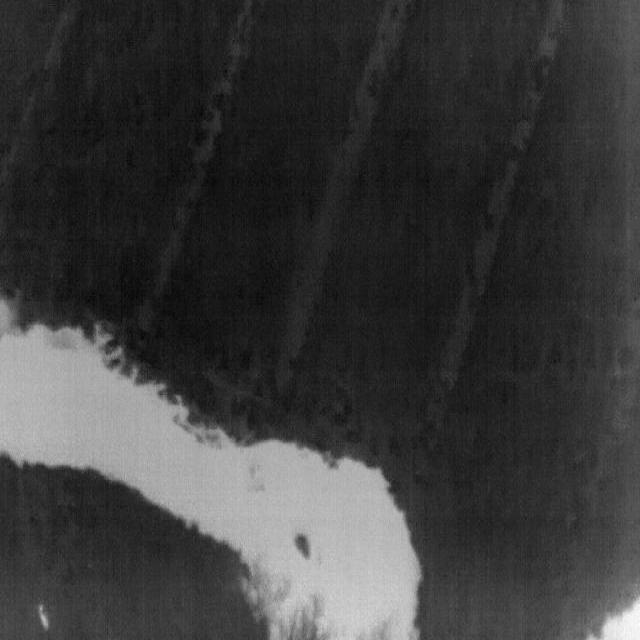deer: (39, 604, 52, 632)
